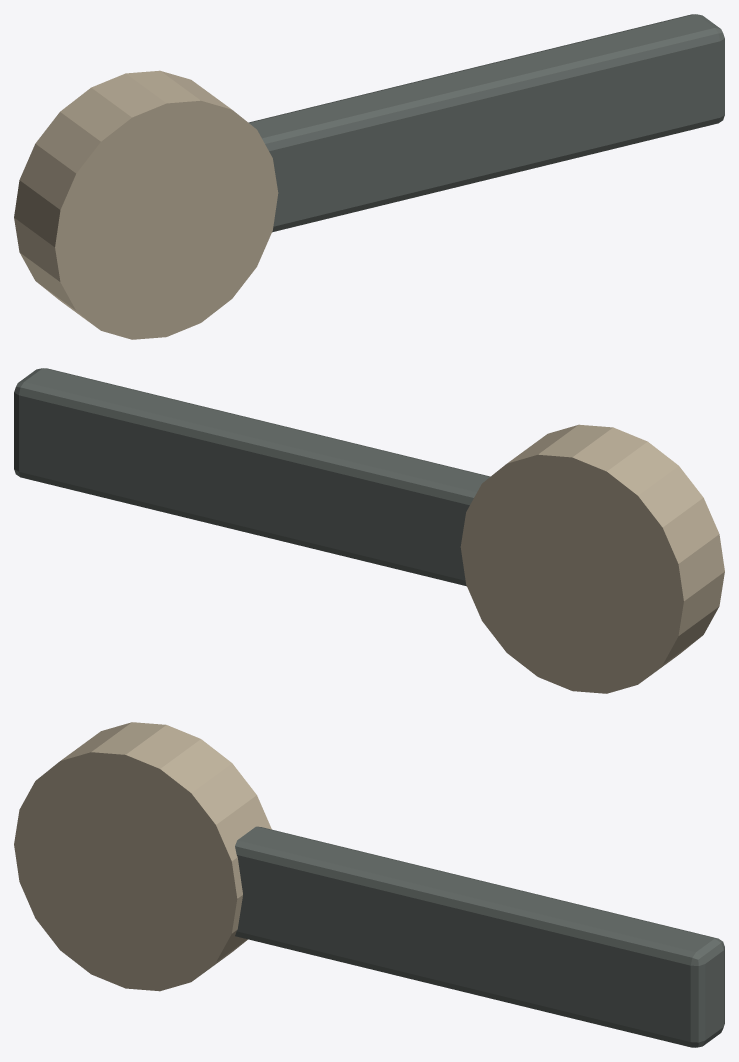
The model's file is common_machine_needle.glb.
3 renders of one model, top to bottom at view 1: azimuth 30°, elevation 25°; view 2: azimuth 150°, elevation 25°; view 3: azimuth 330°, elevation 25°, orthographic.
Parts seen in each view (by area): view 1: common_machine_needle__common-brushed-brass, common_machine_needle__common-dark-timber; view 2: common_machine_needle__common-brushed-brass, common_machine_needle__common-dark-timber; view 3: common_machine_needle__common-dark-timber, common_machine_needle__common-brushed-brass.
Boxes of the visible parts, bbox=[...] form: common_machine_needle__common-brushed-brass: bbox=[14, 70, 278, 339]; common_machine_needle__common-dark-timber: bbox=[248, 14, 724, 232]; common_machine_needle__common-brushed-brass: bbox=[460, 424, 724, 693]; common_machine_needle__common-dark-timber: bbox=[14, 368, 490, 586]; common_machine_needle__common-dark-timber: bbox=[235, 826, 724, 1047]; common_machine_needle__common-brushed-brass: bbox=[14, 722, 271, 991].
Bounding box in the file's own units: 0.335 × 0.11 × 0.035.
